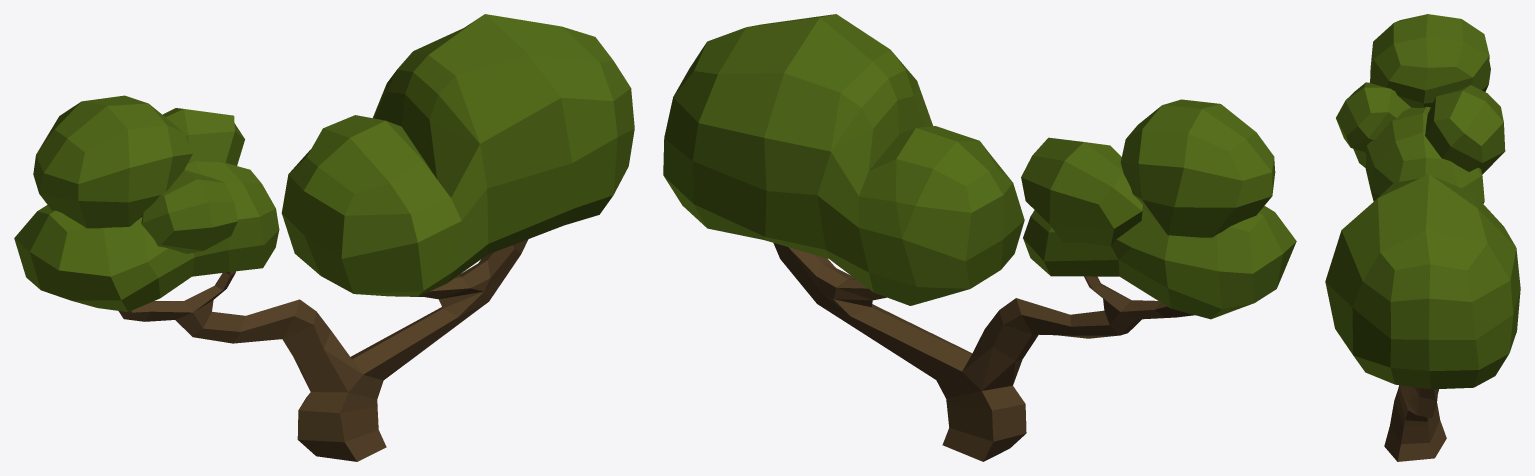
The model's file is TreesAndBushes_070.fbx.
3 renders of one model, left to right at view 1: azimuth 30°, elevation 25°; view 2: azimuth 150°, elevation 25°; view 3: azimuth 270°, elevation 25°, orthographic. The views are drawn at different scales.
Parts seen in each view (by area): view 1: TreesAndBushes_070; view 2: TreesAndBushes_070; view 3: TreesAndBushes_070.
Boxes of the visible parts, x1=… form: TreesAndBushes_070: x1=14, y1=14, x2=634, y2=461; TreesAndBushes_070: x1=663, y1=14, x2=1296, y2=461; TreesAndBushes_070: x1=1325, y1=14, x2=1520, y2=461.
Bounding box in the file's own units: 190 × 120 × 63.1.
